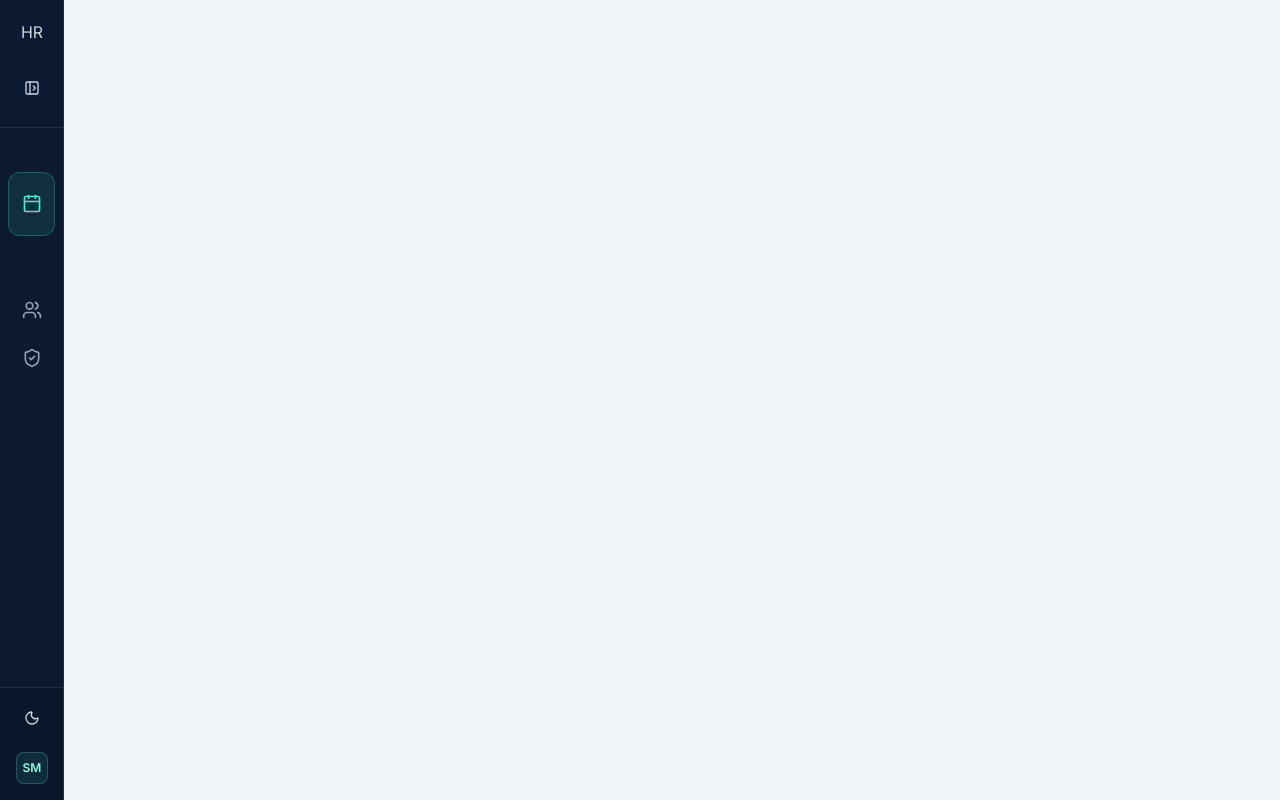
Test: sidebar navigation › opens mobile navigation as a modal without overwriting desktop preference
Click the button named "Expand sidebar". click: click(32, 88)
box: top-left (14, 70), bottom-right (50, 106)
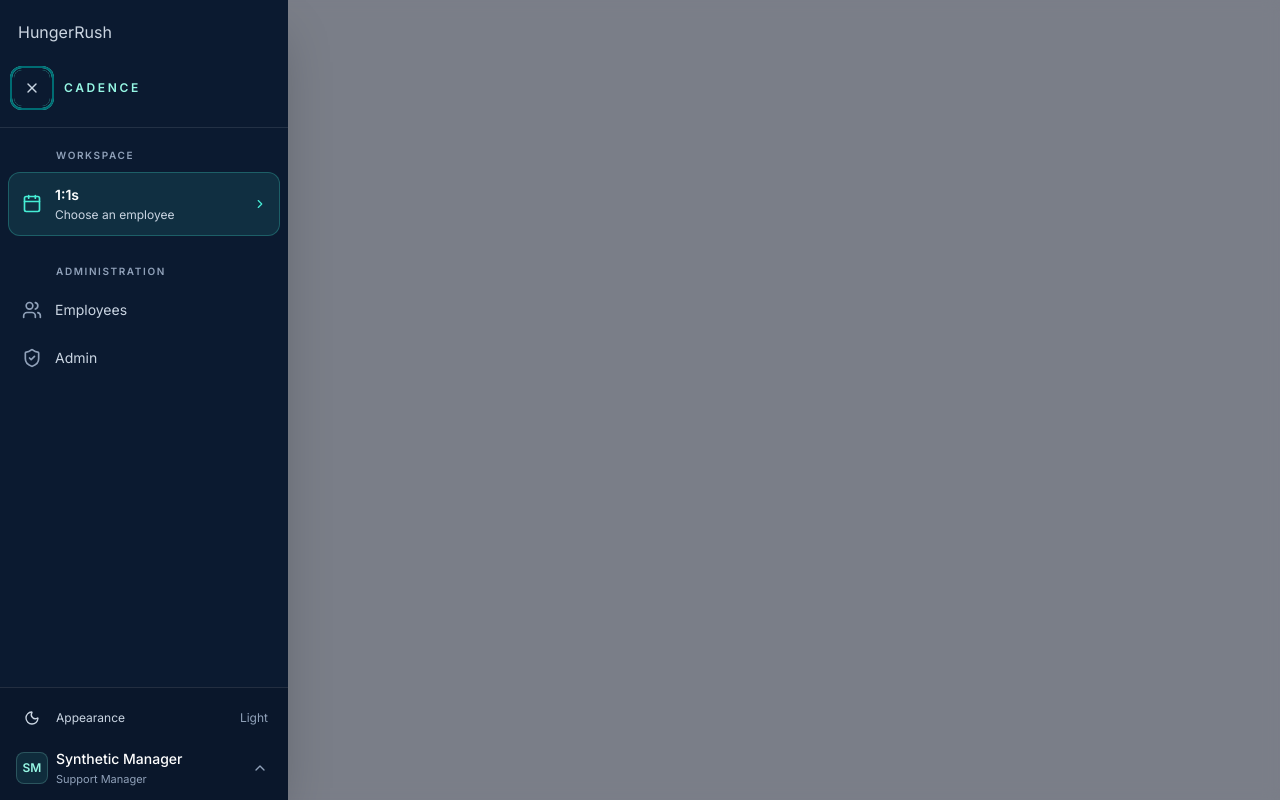
Result: the dialog shows "Choose an employee" at top-left (8, 172), bottom-right (280, 236)
Click the button named "Close navigation". click: click(32, 88)
box: top-left (14, 70), bottom-right (50, 106)
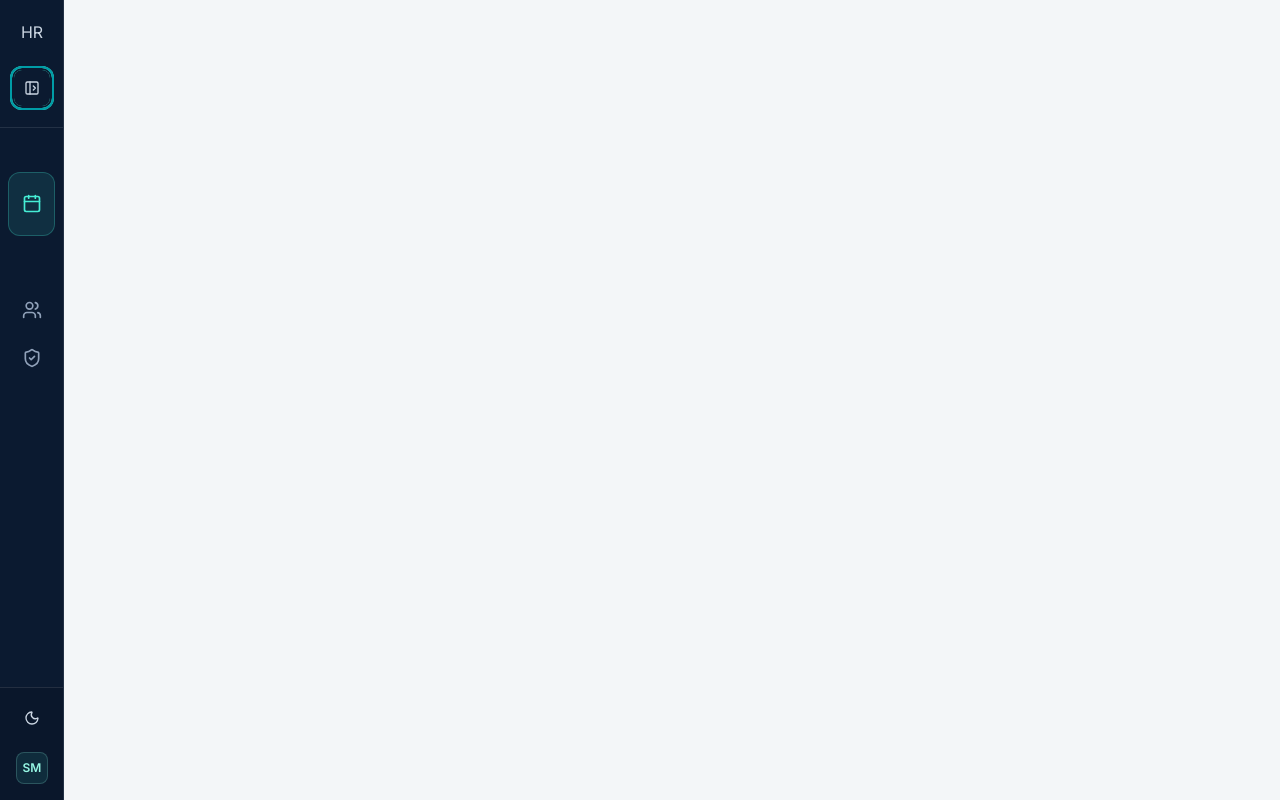
Result: the dialog is gone
